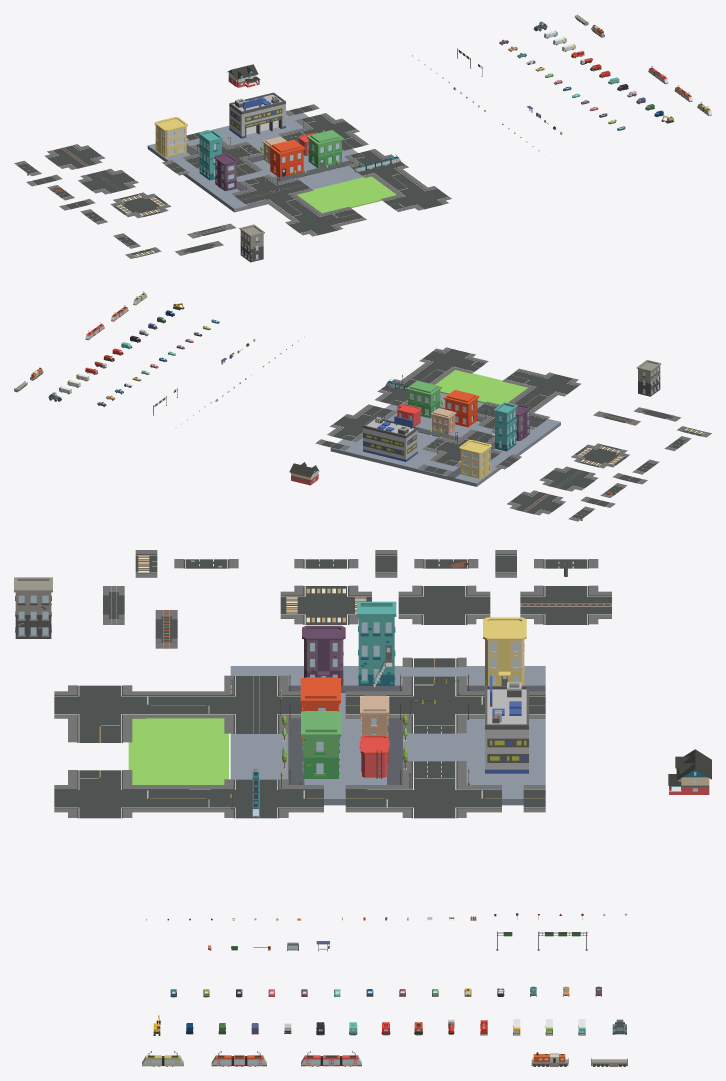
3 views of the same model, one above another, from view 1: azimuth 30°, elevation 25°; view 2: azimuth 150°, elevation 25°; view 3: azimuth 270°, elevation 25° (orthographic). The views are drawn at different scales.
Parts seen in each view (by area): view 1: Road, Plane, Cube, Object_2, Building_8, Building_6, Building_4, Building_3, Building_2, Building_7, Building_1; view 2: Road, Plane, Object_2, Cube, Building_8, Building_3, Building_4, Building_6, Building_2, Building_5, Building_1, Building_7 (+1 smaller); view 3: Road, Plane, Cube, Object_2, Building_3, Building_8, Building_6, Building_2, Building_7, Building_1, Building_4, Building_9 (+3 smaller).
Part boxes in pixels (left/top/right/bottom): Road: left=14, top=104, right=451, bottom=255; Plane: left=147, top=113, right=363, bottom=212; Cube: left=297, top=176, right=396, bottom=213; Object_2: left=229, top=92, right=285, bottom=138; Building_8: left=154, top=117, right=188, bottom=156; Building_6: left=307, top=130, right=343, bottom=168; Building_4: left=268, top=140, right=305, bottom=177; Building_3: left=198, top=129, right=223, bottom=180; Building_2: left=239, top=224, right=264, bottom=262; Building_7: left=214, top=153, right=238, bottom=190; Building_1: left=227, top=64, right=260, bottom=87; Road: left=315, top=347, right=691, bottom=521; Plane: left=330, top=392, right=560, bottom=486; Object_2: left=363, top=416, right=417, bottom=461; Cube: left=435, top=370, right=527, bottom=404; Building_8: left=459, top=440, right=491, bottom=478; Building_3: left=491, top=402, right=517, bottom=451; Building_4: left=443, top=390, right=479, bottom=427; Building_6: left=406, top=380, right=441, bottom=418; Building_2: left=636, top=360, right=661, bottom=396; Building_5: left=430, top=408, right=456, bottom=434; Building_1: left=289, top=462, right=319, bottom=485; Building_7: left=516, top=404, right=530, bottom=440; Road: left=54, top=550, right=611, bottom=818; Plane: left=230, top=666, right=545, bottom=805; Cube: left=128, top=718, right=228, bottom=784; Object_2: left=485, top=675, right=528, bottom=773; Building_3: left=357, top=601, right=396, bottom=688; Building_8: left=483, top=617, right=526, bottom=685; Building_6: left=301, top=711, right=341, bottom=778; Building_2: left=14, top=577, right=52, bottom=638; Building_7: left=302, top=625, right=345, bottom=685; Building_1: left=668, top=749, right=711, bottom=794; Building_4: left=300, top=677, right=340, bottom=741; Building_9: left=359, top=735, right=389, bottom=778.
Bounding box in the file's own units: 331 × 25.1 × 189.
Materials: 8 (5 with a texture image).
